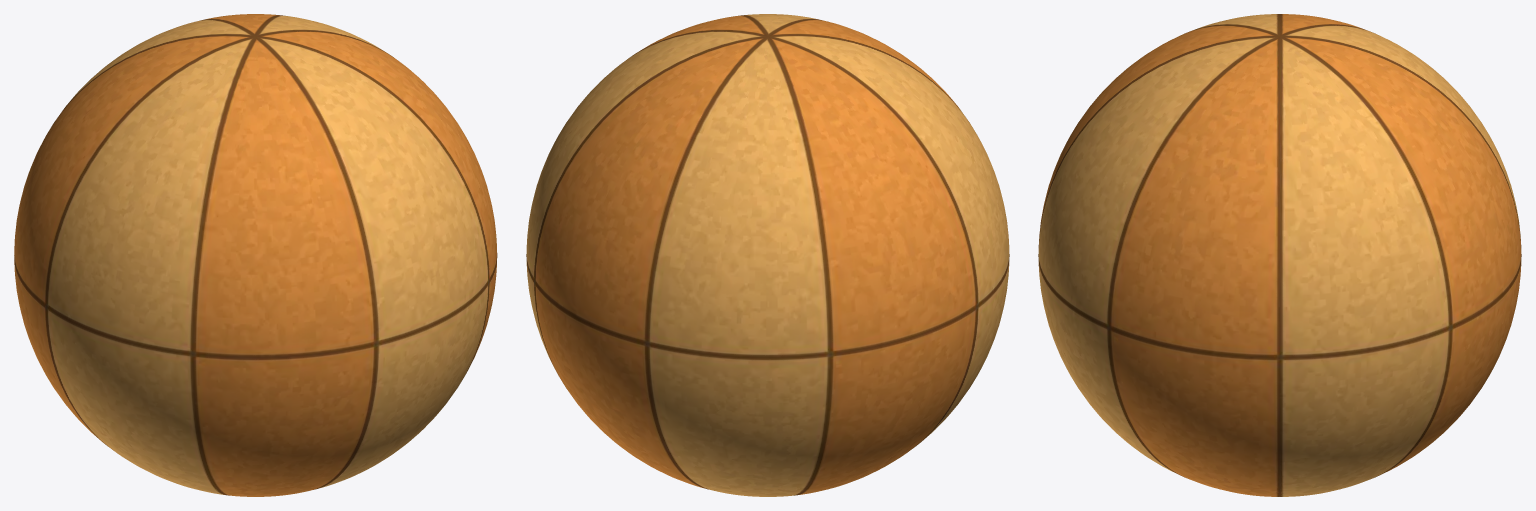
File: ball-netball.glb
The picture shows the model from 3 angles, left to right: view 1: azimuth 30°, elevation 25°; view 2: azimuth 150°, elevation 25°; view 3: azimuth 270°, elevation 25°; orthographic projection.
Visible parts, largest first — view 1: Ball; view 2: Ball; view 3: Ball.
Part boxes in pixels (<box>): Ball: <box>14,14,497,496</box>; Ball: <box>526,14,1009,496</box>; Ball: <box>1038,14,1521,496</box>.
Bounding box in the file's own units: 0.2222 × 0.222 × 0.222.
2 materials, 2 textured.
